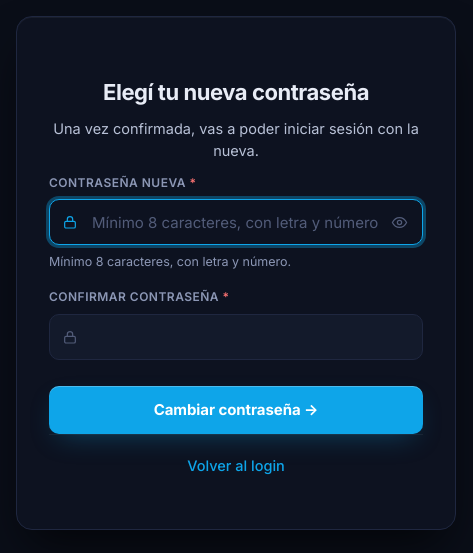
ResetPassword › valida client: pass sin número → error
Type "abcdefgh" into the password field labelled "Contraseña nueva *" at x=236, y=222, box top-left (49, 199), bottom-right (423, 245)
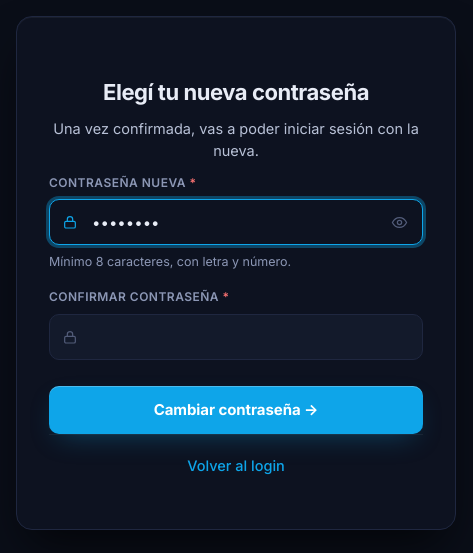
Type "abcdefgh" into the password field labelled "Confirmar contraseña *" at x=236, y=337, box top-left (49, 314), bottom-right (423, 360)
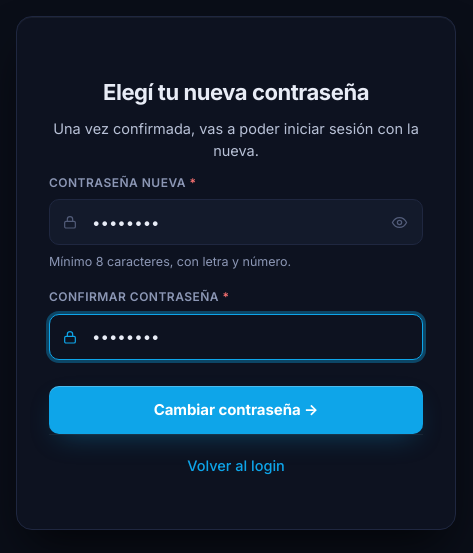
Click the button "Cambiar contraseña →" at x=236, y=410, box top-left (49, 386), bottom-right (423, 434)
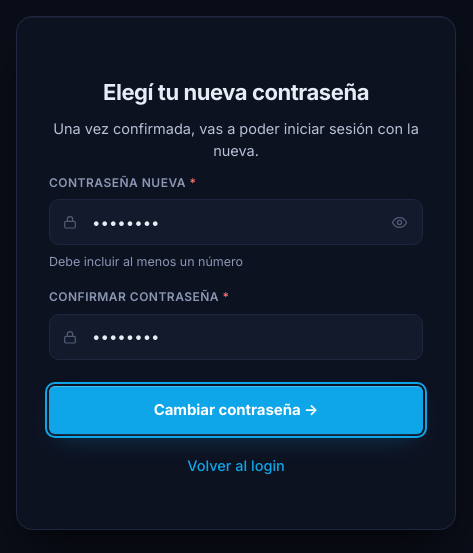
Check: the text "Debe incluir al menos un número" is shown, box top-left (49, 254), bottom-right (243, 269)
